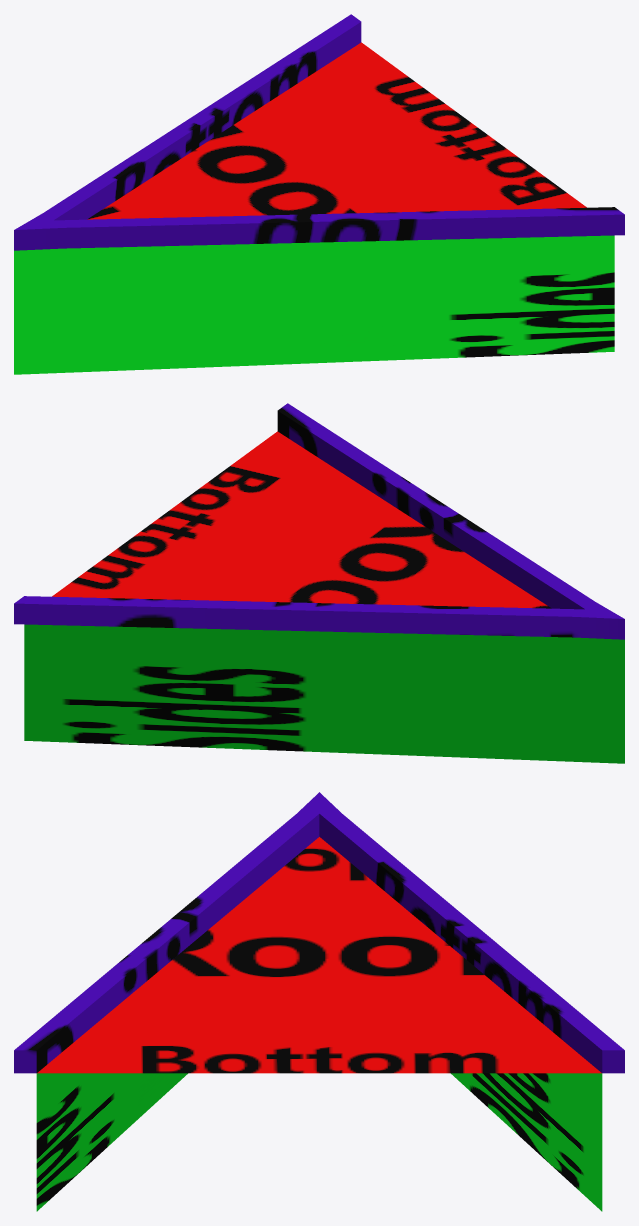
The model's file is ENV_BuildingAttachmentThree.fbx.
3 renders of one model, top to bottom at view 1: azimuth 30°, elevation 25°; view 2: azimuth 150°, elevation 25°; view 3: azimuth 270°, elevation 25°, orthographic. The views are drawn at different scales.
Visible parts, largest first — view 1: BuildingAttachmentThreeWalls, BuildingAttachmentThreeRoof; view 2: BuildingAttachmentThreeWalls, BuildingAttachmentThreeRoof; view 3: BuildingAttachmentThreeRoof, BuildingAttachmentThreeWalls.
Boxes of the visible parts, <box> form: BuildingAttachmentThreeWalls: <box>14,235,614,374</box>; BuildingAttachmentThreeRoof: <box>14,14,624,250</box>; BuildingAttachmentThreeWalls: <box>24,624,624,763</box>; BuildingAttachmentThreeRoof: <box>14,403,624,639</box>; BuildingAttachmentThreeRoof: <box>14,792,624,1073</box>; BuildingAttachmentThreeWalls: <box>36,1073,602,1211</box>.
Bounding box in the file's own units: 12 × 3.5 × 12.
